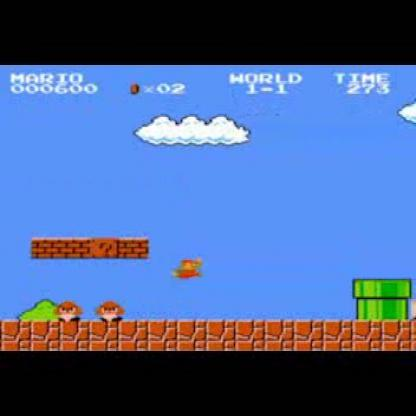Goomba: (54, 296, 85, 323), (97, 295, 128, 321)
